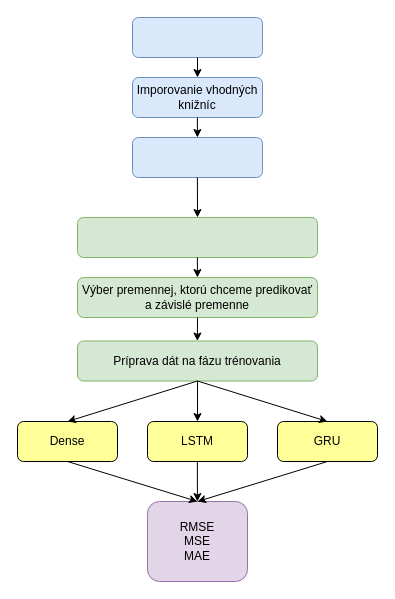
Image size: 395x599. Some labels were removed from this diagram. Each missing label, with the centre of its shape:
Importovanie súboru dát: (197,157)
Zber súborov dát: (197,37)
Úprava súboru dát: (197,237)
